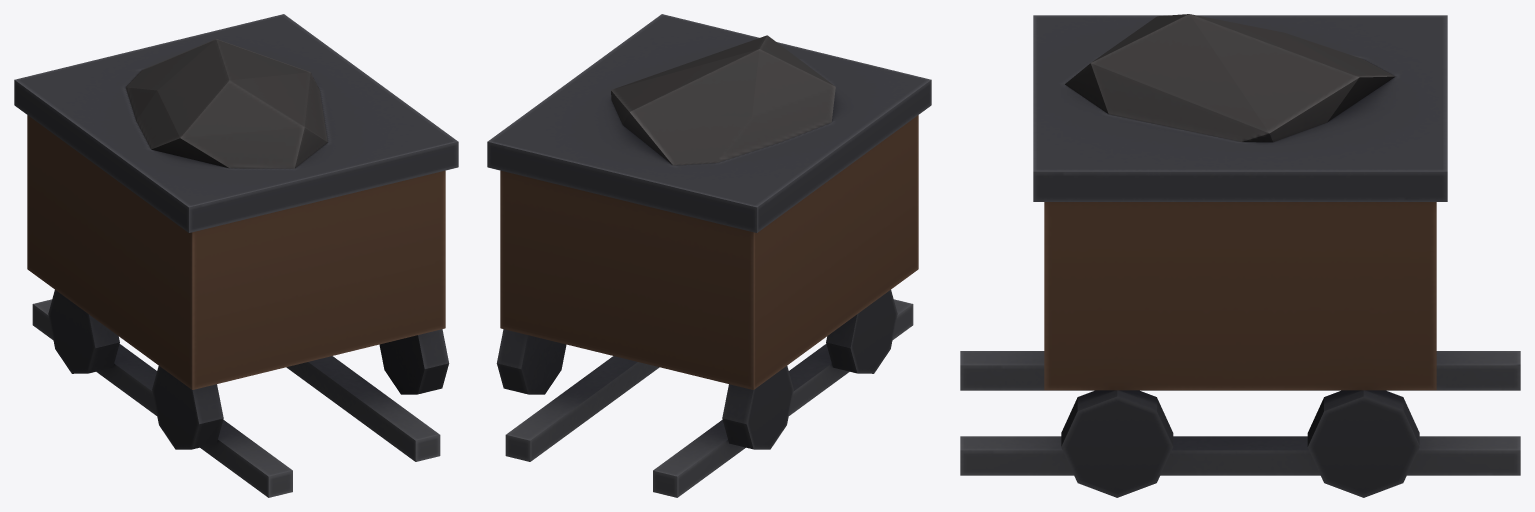
Rendered from rock_cart.glb.
3 renders of one model, left to right at view 1: azimuth 30°, elevation 25°; view 2: azimuth 150°, elevation 25°; view 3: azimuth 270°, elevation 25°, orthographic. The views are drawn at different scales.
Parts seen in each view (by area): view 1: rock_cart; view 2: rock_cart; view 3: rock_cart.
Boxes of the visible parts, box(x1,y1,x2,y2) form: rock_cart: box(14, 14, 458, 497); rock_cart: box(487, 14, 931, 497); rock_cart: box(960, 14, 1520, 497).
Bounding box in the file's own units: 0.666 × 0.779 × 1.
1 material, 1 textured.
